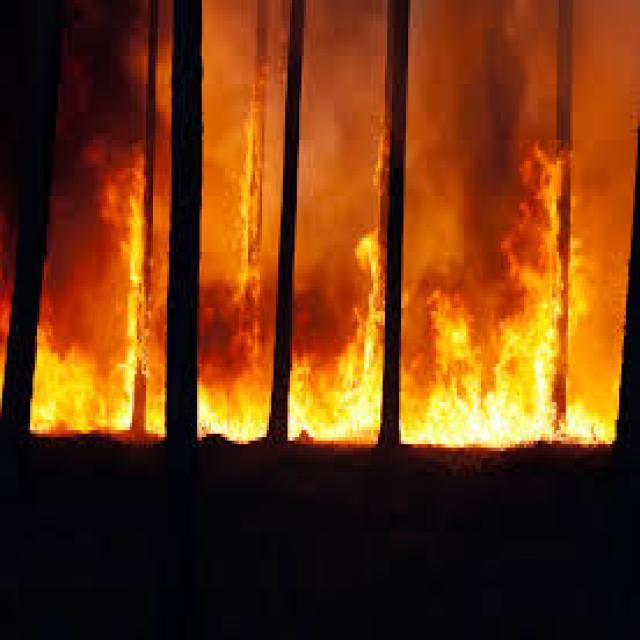Fire: (2, 0, 640, 453)
